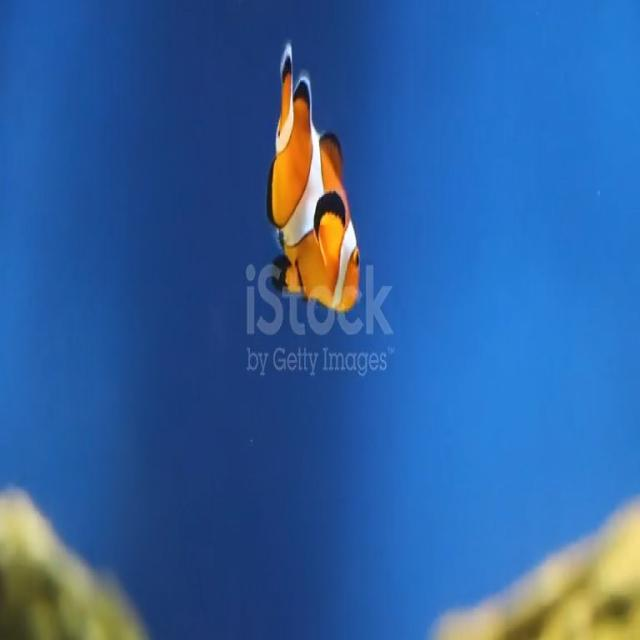fish: (268, 38, 364, 312)
